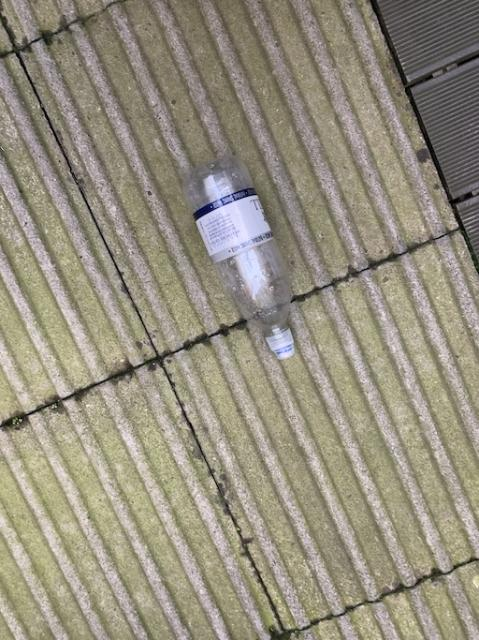plastic: (182, 155, 292, 357)
